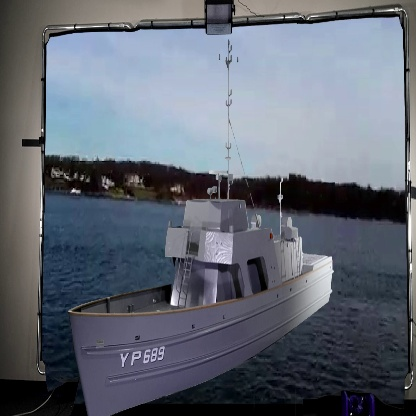YP689: (67, 36, 335, 416)
